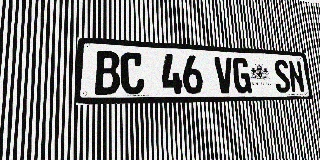4: (161, 54, 183, 94)
6: (182, 55, 203, 94)
B: (95, 50, 120, 95)
C: (120, 52, 144, 95)
G: (232, 57, 252, 93)
N: (287, 60, 305, 93)
S: (273, 59, 291, 93)
V: (214, 56, 234, 94)
